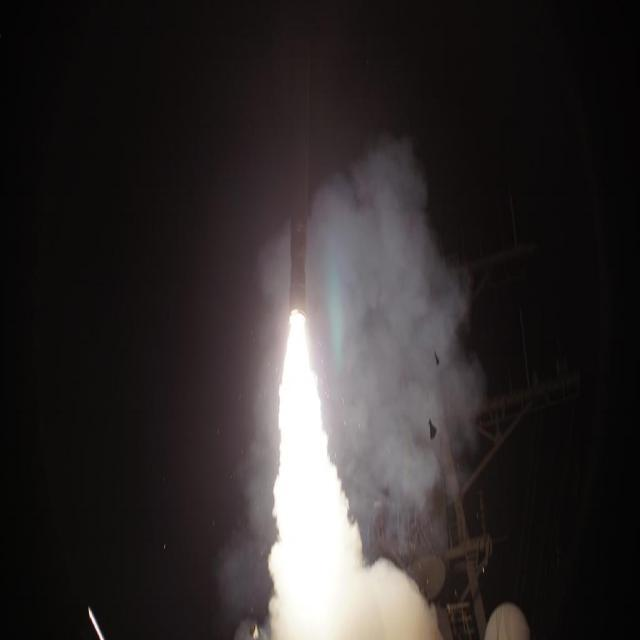missile: (284, 168, 310, 322)
